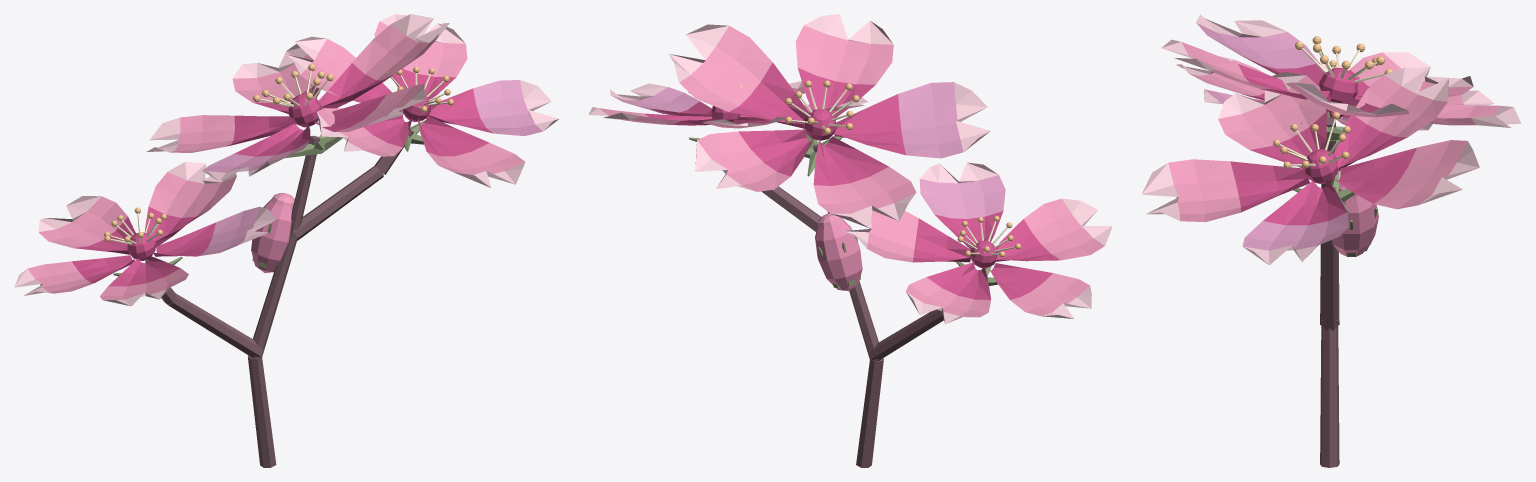
File: three-blossom-sprig.glb
The picture shows the model from 3 angles, left to right: view 1: azimuth 30°, elevation 25°; view 2: azimuth 150°, elevation 25°; view 3: azimuth 270°, elevation 25°; orthographic projection. The views are drawn at different scales.
Visible parts, largest first — view 1: left flower · petal 1, left twig · segment 1, left flower · petal 5, small bud · closed petals, left flower · heart, left flower · anther 1, left flower · filament 1, left flower · sepal 1; view 2: left flower · petal 1, left flower · petal 5, left twig · segment 1, small bud · closed petals, left flower · heart, left flower · filament 1, left flower · anther 1, left flower · sepal 1; view 3: left flower · petal 1, left flower · petal 5, left twig · segment 1, left flower · heart, small bud · closed petals, left flower · anther 1, left flower · filament 1, left flower · sepal 1.
Boxes of the visible parts, x1,y1,x2,y2 form: left flower · petal 1: (14, 14, 559, 306); left twig · segment 1: (161, 129, 413, 467); left flower · petal 5: (197, 80, 542, 256); small bud · closed petals: (251, 199, 292, 272); left flower · heart: (127, 93, 430, 260); left flower · anther 1: (104, 64, 453, 242); left flower · filament 1: (110, 70, 447, 244); left flower · sepal 1: (113, 120, 425, 276); left flower · petal 1: (588, 14, 1112, 323); left flower · petal 5: (611, 82, 1005, 218); left twig · segment 1: (761, 144, 980, 467); small bud · closed petals: (815, 218, 862, 291); left flower · heart: (711, 106, 997, 268); left flower · filament 1: (791, 87, 1015, 254); left flower · anther 1: (688, 80, 1020, 257); left flower · sepal 1: (689, 128, 997, 287); left flower · petal 1: (1141, 14, 1521, 265); left flower · petal 5: (1196, 23, 1348, 250); left twig · segment 1: (1320, 117, 1339, 467); left flower · heart: (1305, 67, 1357, 183); small bud · closed petals: (1331, 196, 1378, 256); left flower · anther 1: (1273, 36, 1392, 169); left flower · filament 1: (1279, 43, 1384, 166); left flower · sepal 1: (1293, 111, 1377, 256).
Bounding box in the file's own units: 0.382 × 0.29 × 0.2094.
